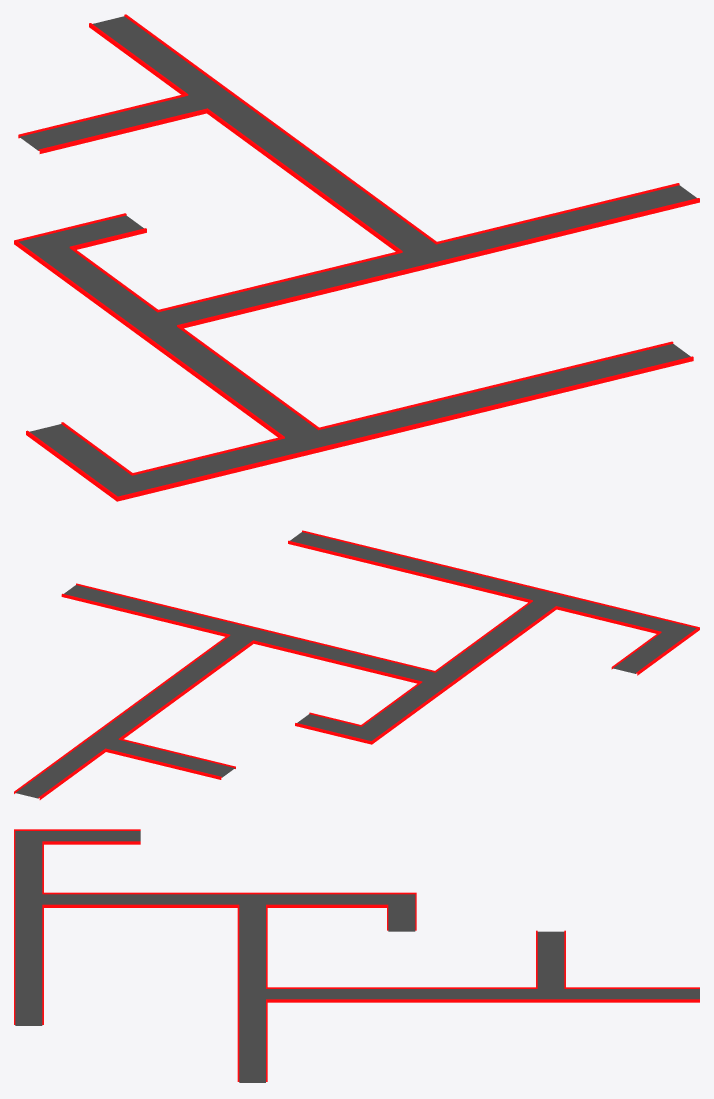
File: envPathing.glb
3 renders of one model, top to bottom at view 1: azimuth 30°, elevation 25°; view 2: azimuth 150°, elevation 25°; view 3: azimuth 270°, elevation 25°, orthographic. The views are drawn at different scales.
Parts seen in each view (by area): view 1: path_split; view 2: path_split; view 3: path_split.
Part boxes in pixels (bbox=[...]): path_split: bbox=[14, 14, 699, 501]; path_split: bbox=[14, 530, 699, 799]; path_split: bbox=[14, 829, 699, 1082].
Bounding box in the file's own units: 7.21 × 0.036 × 8.28.
